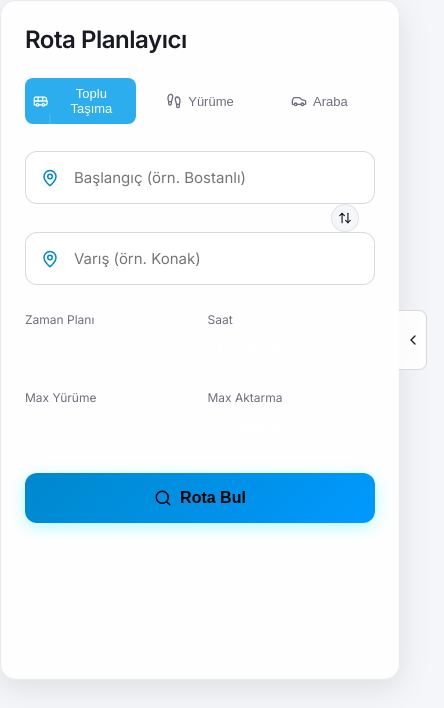
Test: TripPlanner Component › shows validation errors when searching without locations
Click the button "Rota Bul": x=200, y=498 x1=25 y1=473 x2=375 y2=523
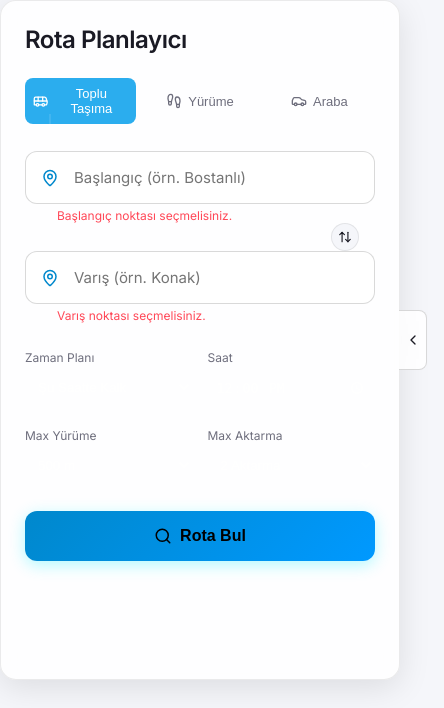
expect the text "Başlangıç noktası seçmelisiniz." is shown: met, box x1=57 y1=208 x2=232 y2=223
expect the text "Varış noktası seçmelisiniz." is shown: met, box x1=57 y1=308 x2=206 y2=323
